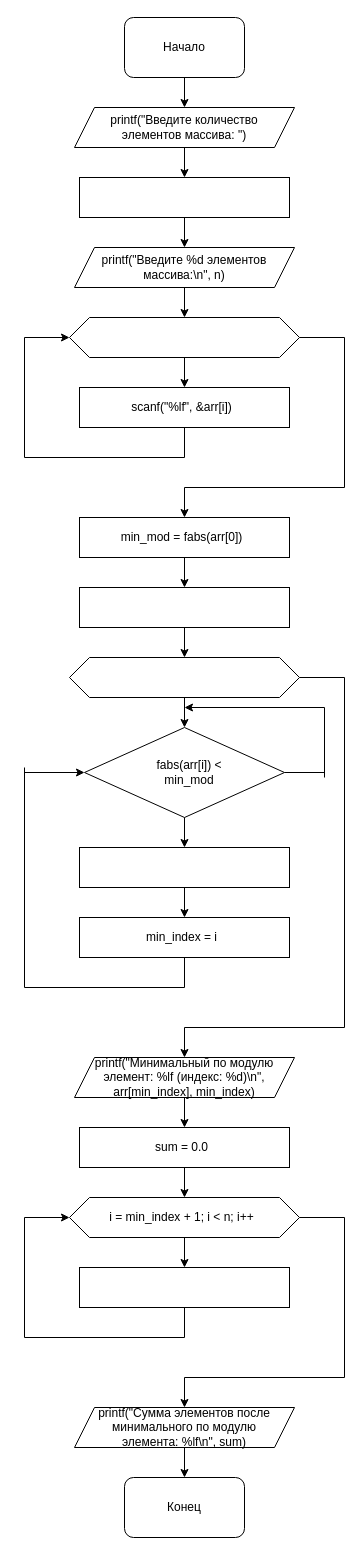
Some shapes in this 363 by 1555 pixel diagram are drawn without their labels. The centre of each missing label's shape, as x and y in pixels:
i = 0; i < n; i++: point 184,337
i = 1; i < n; i++: point 184,677
min_index = 0: point 184,607
min_mod = fabs(arr[i]): point 184,867
scanf("%d", &n): point 184,197
sum += arr[i]: point 184,1287
